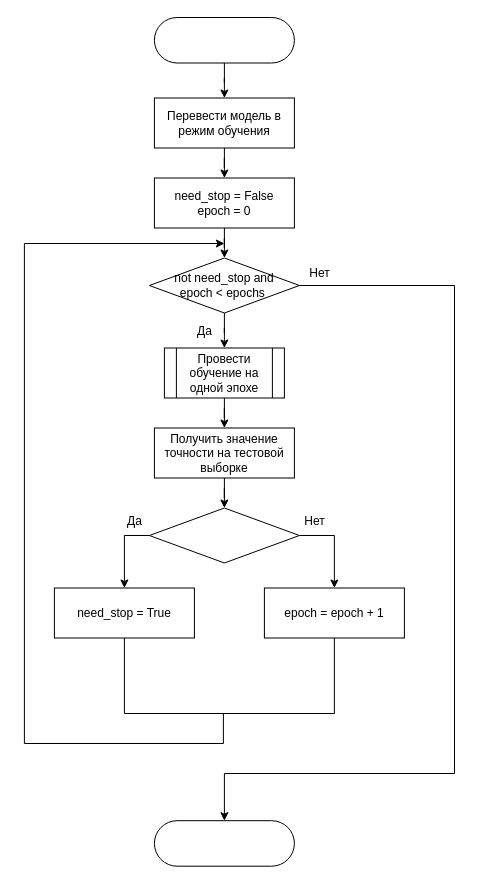
Some shapes in this 481 by 884 pixel diagram are drawn without their labels. The shapes that lost their labels are listed below. From the top down, each one's box as (x1, y1, x2, y2) in pixels, then its label:
(153, 16, 294, 63): Начало
(148, 507, 299, 563): Модель переобучается?
(153, 820, 294, 866): Конец
